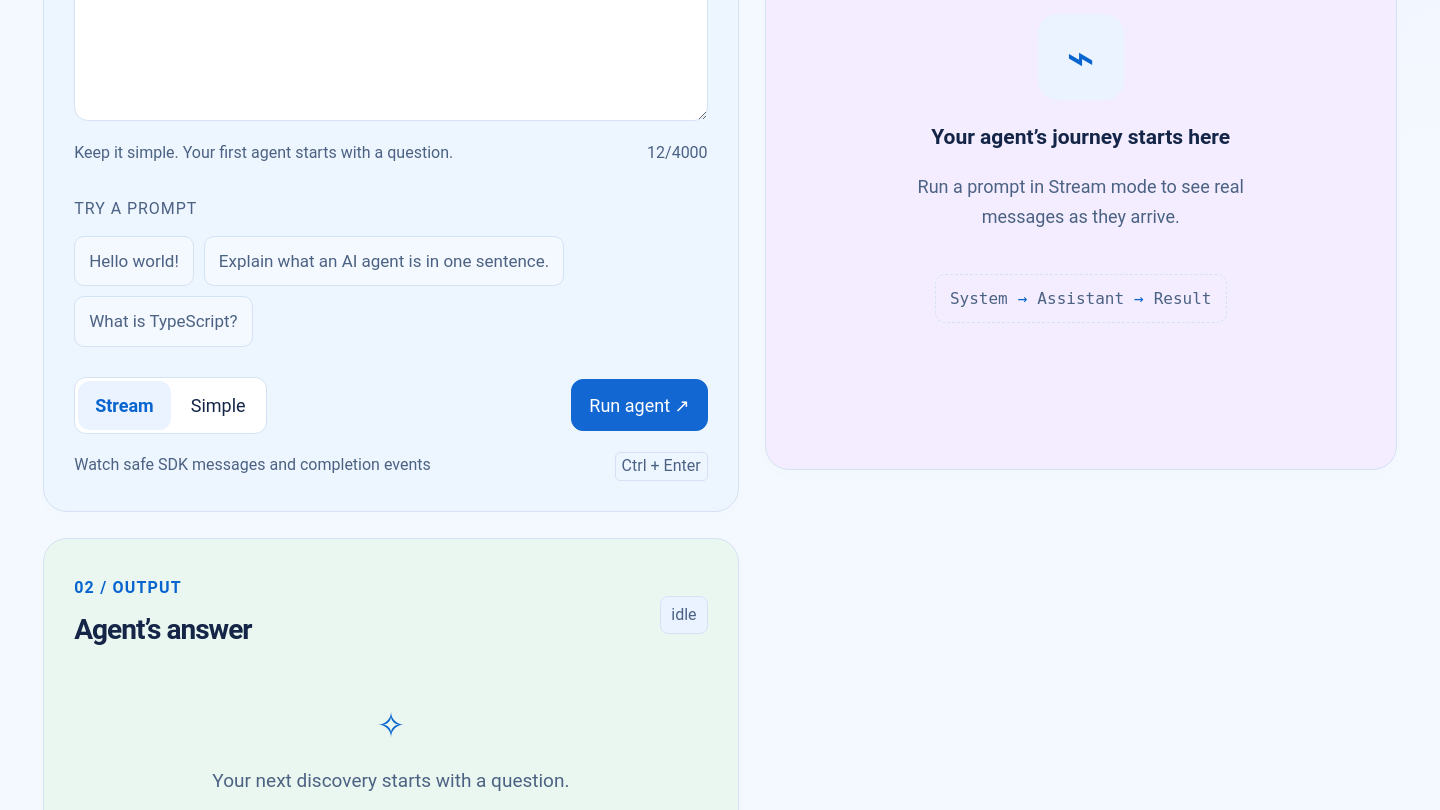
Test: React agent playground › renders a real streamed result, timeline and sanitized highlighted Markdown
(page scrolled)
Click the button "Run agent ↗": (640, 405) 571,379 -> 708,431
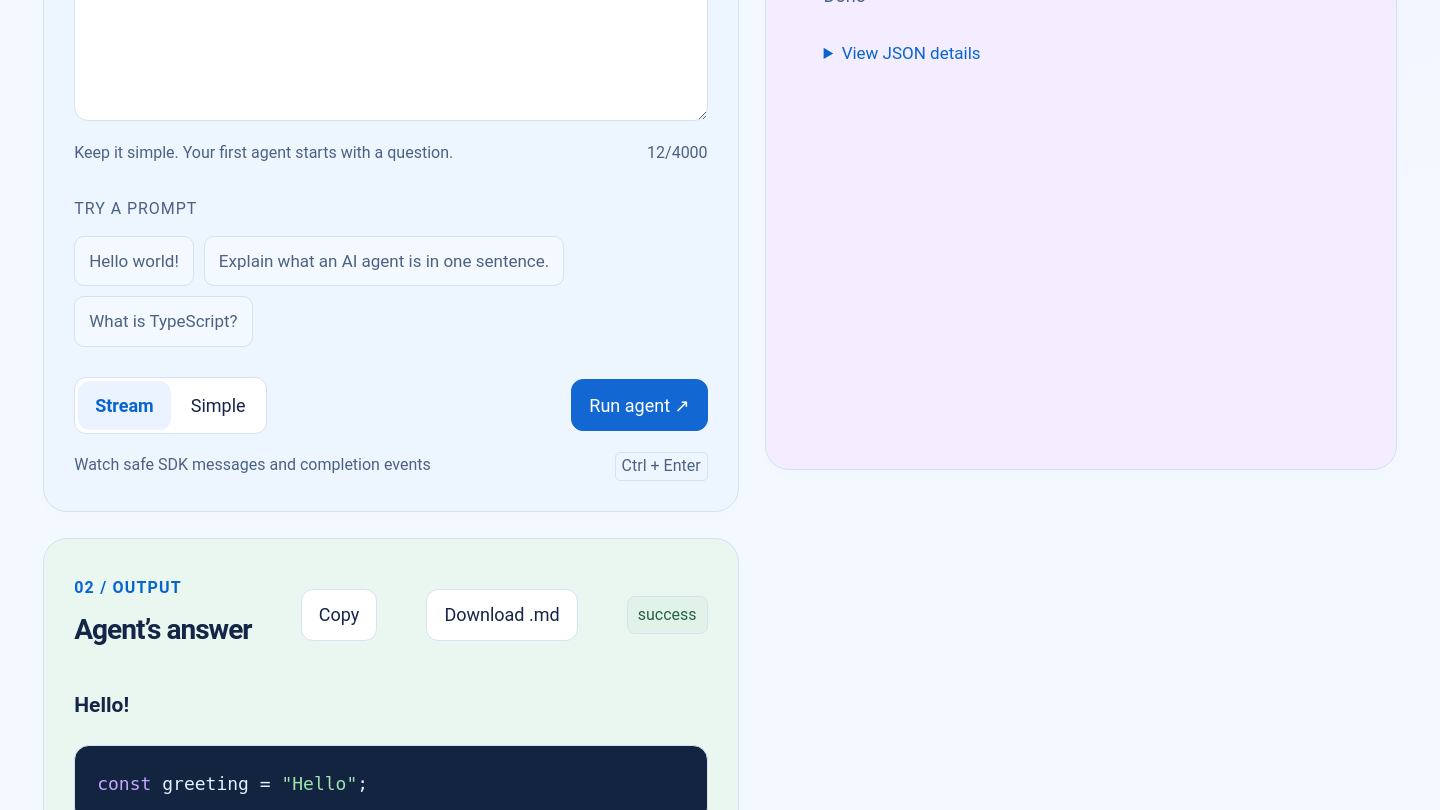
Result: the text with class "state" reads "success" at 638,604 -> 697,624
Result: the text "Hello!" is shown at 74,693 -> 129,717
Result: the text "const" is shown at 97,773 -> 151,794
